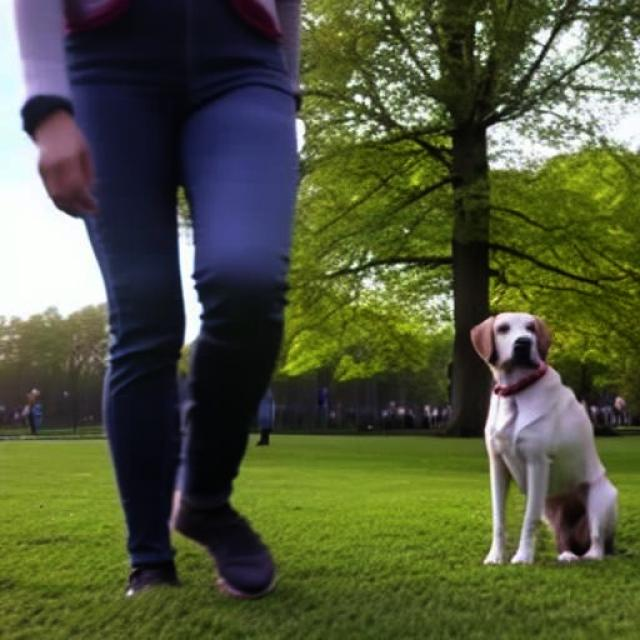Unleashed_Dog: (171, 104, 621, 566)
